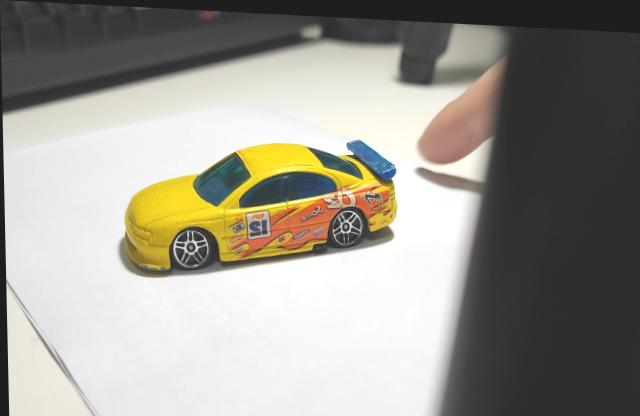02_OZSOME: (117, 137, 397, 277)
